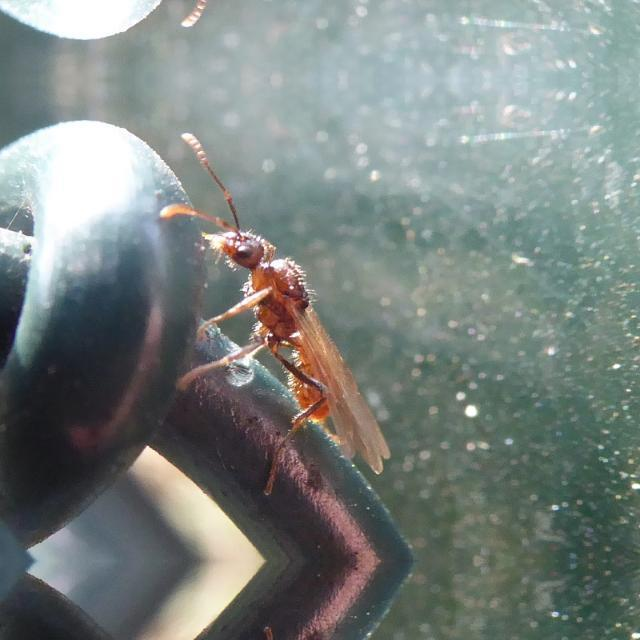Myrmica: (148, 164, 402, 486)
